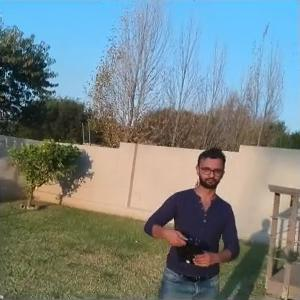follow: (139, 142, 242, 298)
